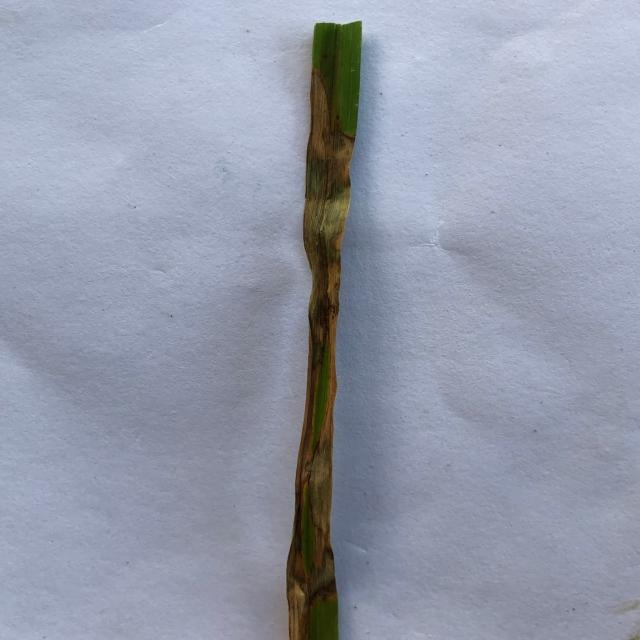leaf blight: (282, 68, 353, 595), (286, 577, 318, 640)
